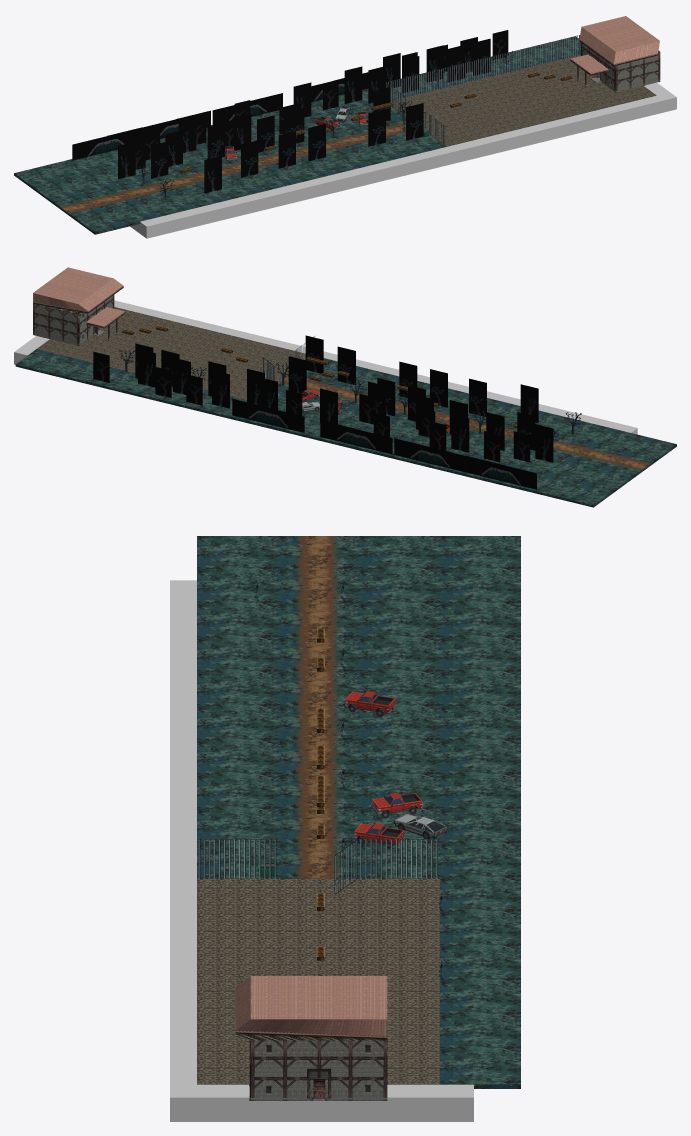
File: Blend_Entrance.fbx
The picture shows the model from 3 angles, top to bottom: view 1: azimuth 30°, elevation 25°; view 2: azimuth 150°, elevation 25°; view 3: azimuth 270°, elevation 25°; orthographic projection. The views are drawn at different scales.
Visible parts, largest first — view 1: Cube, Cube__4_, Cube.064, Cube.065, Cube.066, Cube.067, Cube.059, Cube.011, Cube.014, Cube.010, Cube.013, Cube.061 (+75 smaller); view 2: Cube__4_, Cube, Cube.067, Cube.050, Cube.065, Cube.064, Cube.066, Cube.059, Cube.060, Cube.061, Cube.063, Cube.011 (+64 smaller); view 3: Cube, Cube__4_, Cube.050, Cube.010, Cube.019, Cube.022, Cube.023, Cube.028, Cube.030, Cube.031, Cube.032, Cube.033 (+56 smaller).
Part boxes in pixels (x1,y1,x2,y2): Cube: (130,82,676,238); Cube__4_: (579,16,660,92); Cube.064: (74,209,130,234); Cube.065: (54,194,109,219); Cube.066: (34,179,88,204); Cube.067: (14,164,68,189); Cube.059: (110,200,164,225); Cube.011: (496,106,550,129); Cube.014: (566,89,621,112); Cube.010: (461,115,515,138); Cube.013: (531,98,586,121); Cube.061: (69,171,124,194); Cube__4_: (33,267,123,345); Cube: (14,300,637,434); Cube.067: (557,481,614,507); Cube.050: (15,349,72,375); Cube.065: (599,450,655,476); Cube.064: (620,435,676,461); Cube.066: (578,466,635,491); Cube.059: (584,426,640,450); Cube.060: (563,442,619,465); Cube.061: (542,457,598,480); Cube.063: (521,472,577,498); Cube.011: (187,329,243,353); Cube: (170,580,473,1121); Cube__4_: (235,976,387,1100); Cube.050: (440,1050,520,1088); Cube.010: (197,913,277,947); Cube.019: (359,741,439,775); Cube.022: (197,639,277,673); Cube.023: (359,913,439,947); Cube.028: (440,844,520,878); Cube.030: (440,776,520,810); Cube.031: (440,741,520,775); Cube.032: (440,707,520,741); Cube.033: (440,673,520,707).
Size of the model in its own units: 17400 by 1518 by 4576.
